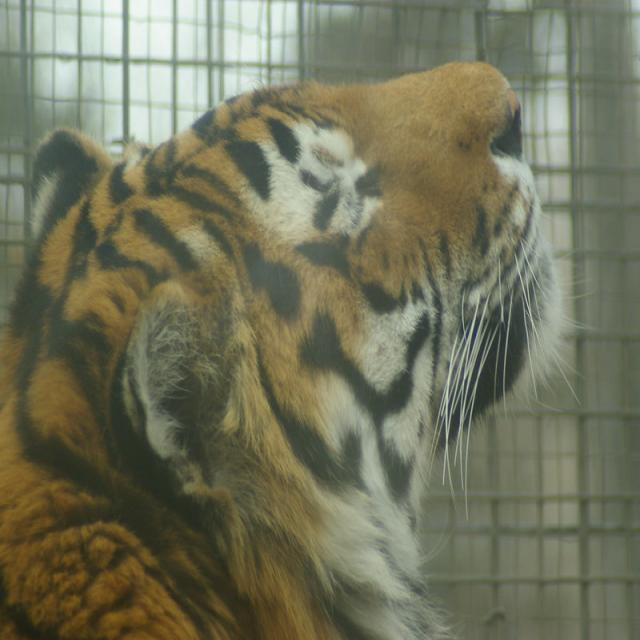Tiger: (0, 53, 595, 632)
